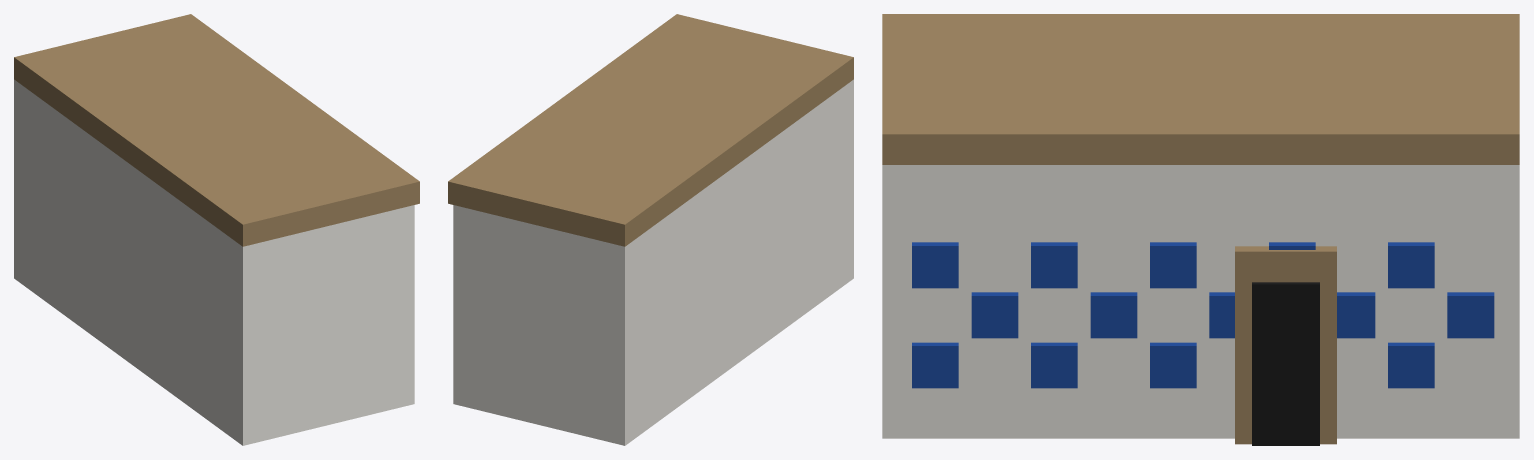
File: azulejos.glb
3 renders of one model, left to right at view 1: azimuth 30°, elevation 25°; view 2: azimuth 150°, elevation 25°; view 3: azimuth 270°, elevation 25°, orthographic. The views are drawn at different scales.
Parts seen in each view (by area): view 1: azulejos; view 2: azulejos; view 3: azulejos.
Part boxes in pixels (left/top/right/bottom): azulejos: left=14, top=14, right=419, bottom=445; azulejos: left=448, top=14, right=853, bottom=445; azulejos: left=882, top=14, right=1519, bottom=445.
Bounding box in the file's own units: 0.69 × 0.8 × 1.5.
